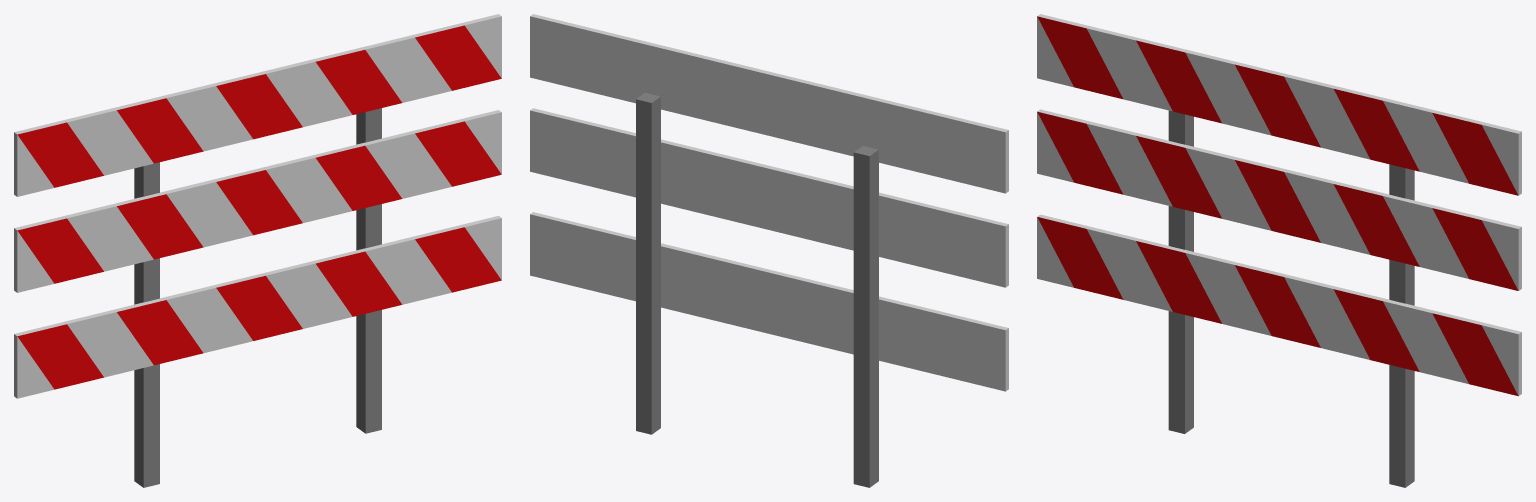
Rendered from road_closed.glb.
The picture shows the model from 3 angles, left to right: view 1: azimuth 30°, elevation 25°; view 2: azimuth 150°, elevation 25°; view 3: azimuth 330°, elevation 25°; orthographic projection.
Visible parts, largest first — view 1: road_closed; view 2: road_closed; view 3: road_closed.
Boxes of the visible parts, left/top/right/bottom form: road_closed: left=14, top=14, right=501, bottom=487; road_closed: left=530, top=14, right=1008, bottom=487; road_closed: left=1037, top=14, right=1521, bottom=487.
Size of the model in its own units: 2.32 by 1.77 by 0.103.
